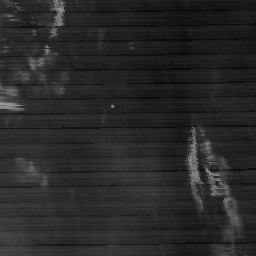Target: (110, 103, 115, 109)
